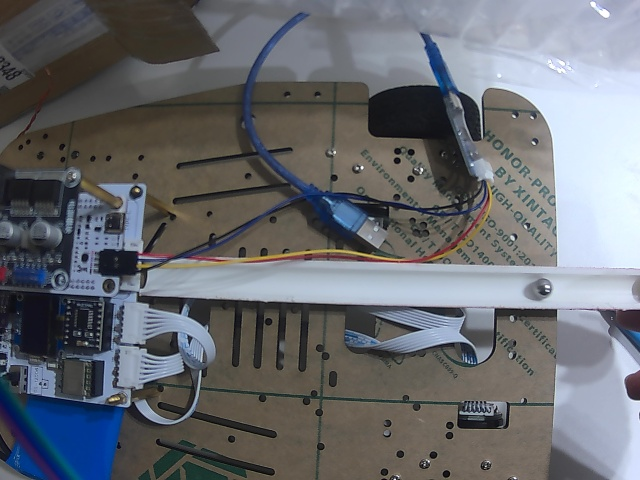steelball: (531, 277, 552, 299)
